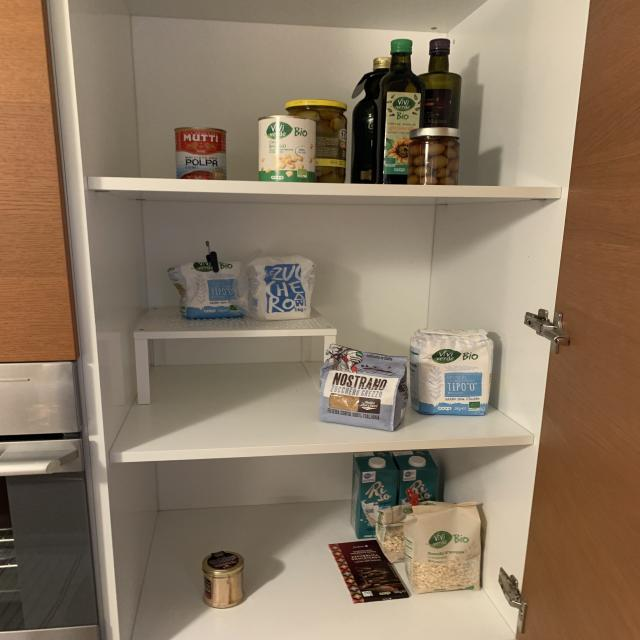chickpeas: (258, 115, 316, 182)
chocolate: (327, 540, 410, 604)
flour: (410, 327, 490, 417), (167, 261, 246, 319), (246, 258, 316, 320)
milk: (351, 454, 398, 539), (393, 450, 439, 505)
oats: (405, 508, 482, 592), (379, 506, 408, 562)
oil: (379, 38, 424, 186), (352, 57, 389, 184), (419, 38, 461, 129)
olives: (287, 106, 348, 182), (411, 138, 459, 185)
sugar: (318, 344, 407, 433)
tomato_sauce: (173, 126, 226, 181)
tuna_fish: (202, 566, 245, 610)
